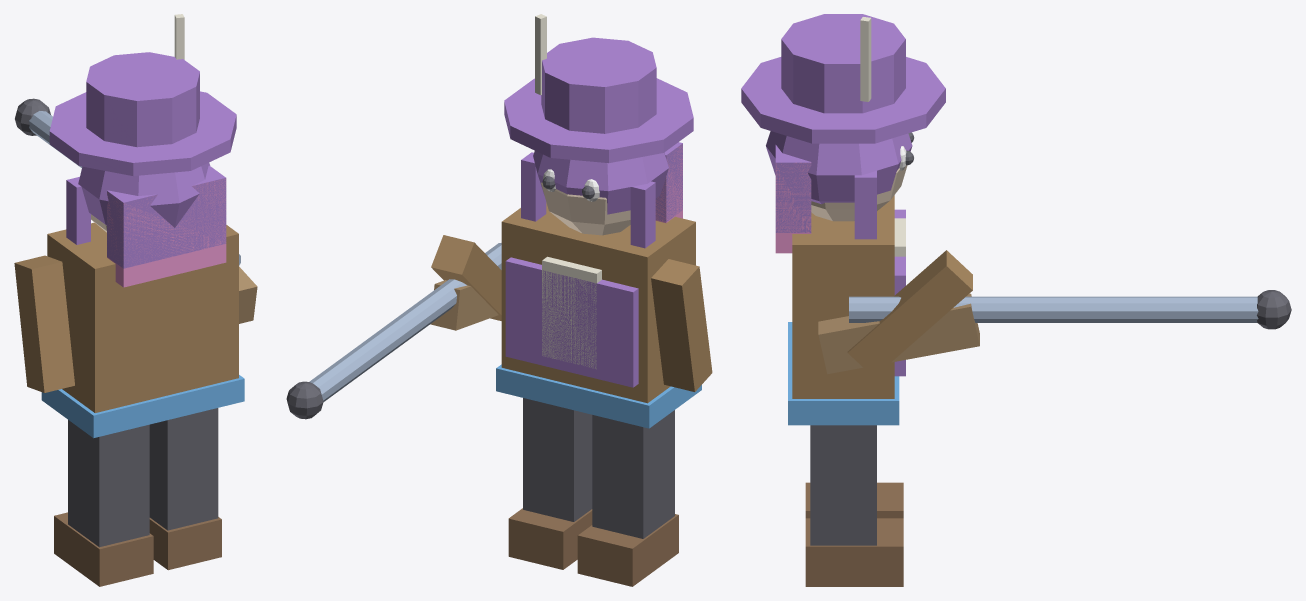
The model's file is three_musketeers.glb.
3 views of the same model, side by side, from view 1: azimuth 30°, elevation 25°; view 2: azimuth 150°, elevation 25°; view 3: azimuth 270°, elevation 25° (orthographic). The views are drawn at different scales.
Visible parts, largest first — view 1: three_musketeers; view 2: three_musketeers; view 3: three_musketeers.
Part boxes in pixels (x1,y1,x2,y2): three_musketeers: [14, 14, 257, 586]; three_musketeers: [286, 14, 712, 586]; three_musketeers: [741, 14, 1291, 586].
Size of the model in its own units: 1.17 by 2.78 by 2.48.
